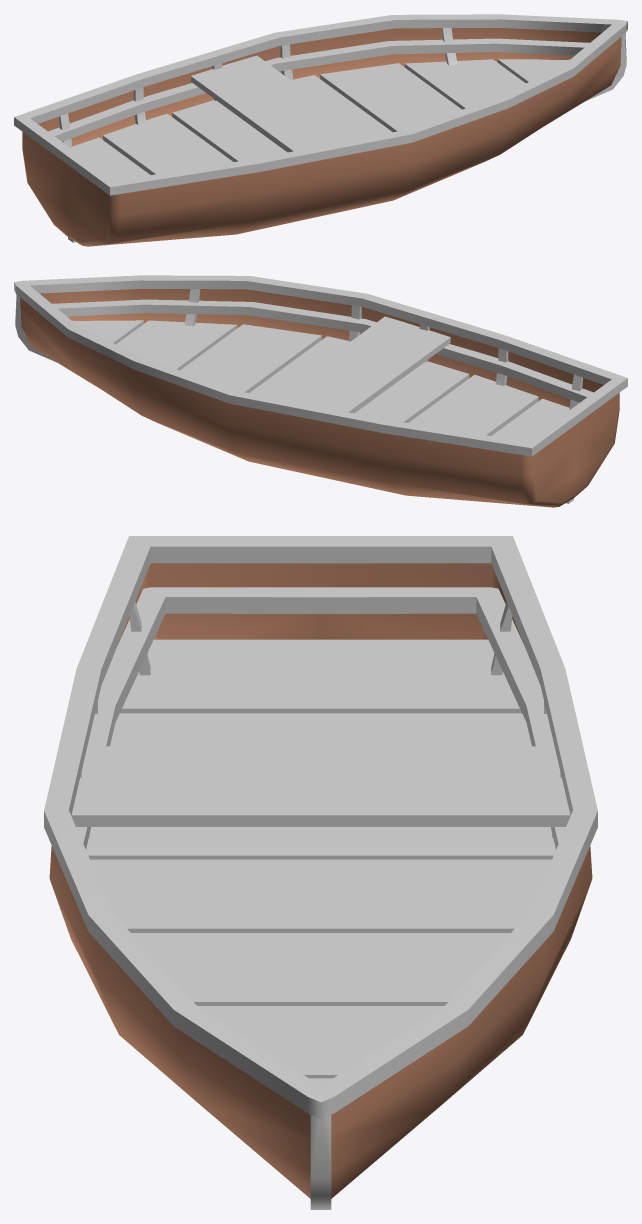
Rendered from boat_origin_fix.fbx.
3 views of the same model, one above another, from view 1: azimuth 30°, elevation 25°; view 2: azimuth 150°, elevation 25°; view 3: azimuth 270°, elevation 25° (orthographic). The views are drawn at different scales.
Visible parts, largest first — view 1: Plane001.001; view 2: Plane001.001; view 3: Plane001.001.
Part boxes in pixels (x1,y1,x2,y2): Plane001.001: (14, 14, 627, 246); Plane001.001: (14, 275, 627, 507); Plane001.001: (44, 536, 597, 1209).
Bounding box in the file's own units: 657 × 105 × 279.
